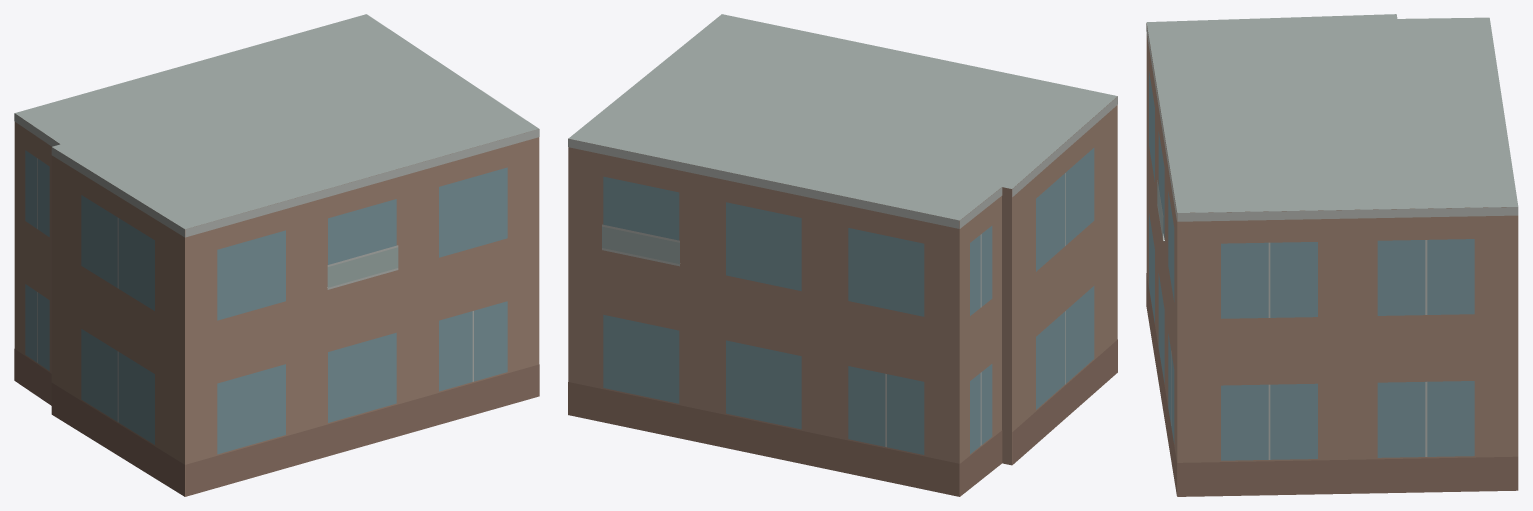
The model's file is survey-upis-32607628.glb.
The picture shows the model from 3 angles, left to right: view 1: azimuth 30°, elevation 25°; view 2: azimuth 150°, elevation 25°; view 3: azimuth 270°, elevation 25°; orthographic projection. The views are drawn at different scales.
Visible parts, largest first — view 1: survey-upis-32607628.tmp; view 2: survey-upis-32607628.tmp; view 3: survey-upis-32607628.tmp.
Boxes of the visible parts, x1,y1,x2,y2 form: survey-upis-32607628.tmp: (14,14,539,496); survey-upis-32607628.tmp: (568,14,1117,496); survey-upis-32607628.tmp: (1146,14,1518,496).
Bounding box in the file's own units: 11.89 × 7.9 × 9.39.
